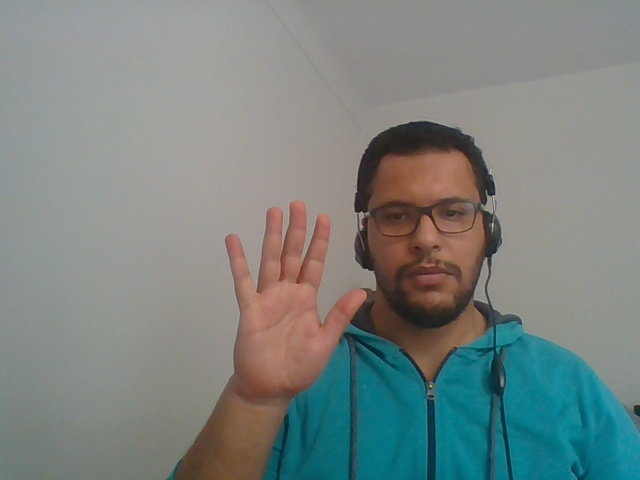hello: (212, 184, 373, 449)
